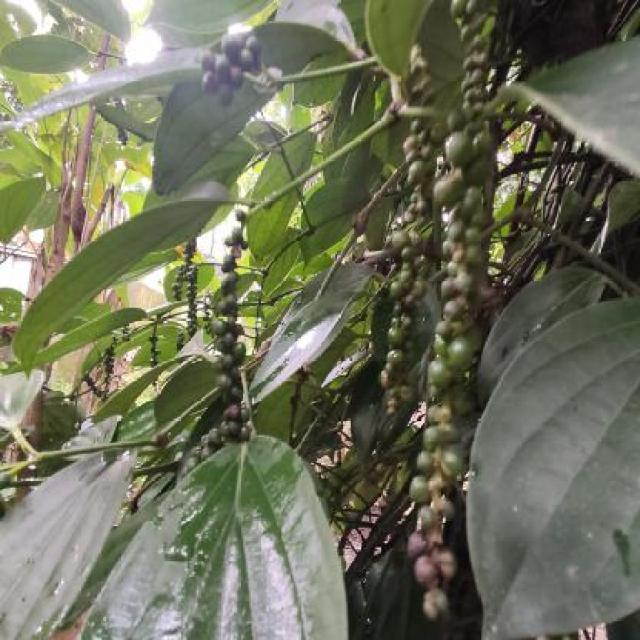UNRIPE: (414, 137, 486, 621), (379, 117, 428, 409), (212, 209, 248, 448), (451, 2, 489, 133), (198, 32, 260, 103), (173, 237, 199, 334), (102, 340, 116, 400), (146, 337, 160, 389), (120, 128, 129, 148)
